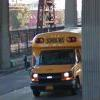Bus: (27, 29, 79, 96)
